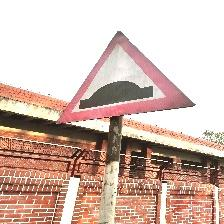Speed-breaker: (56, 31, 196, 122)
